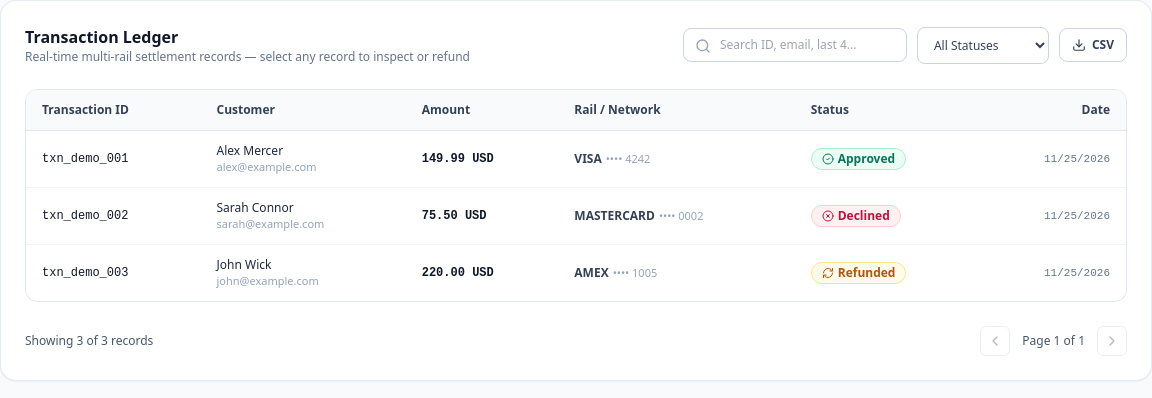
VisaPay Merchant Dashboard & Analytics › should filter transaction ledger by search term and status
Expected: the text "Alex Mercer" is shown, top-left (216, 142), bottom-right (283, 159)
Expected: the text "Sarah Connor" is shown, top-left (216, 199), bottom-right (294, 216)
Note: Search for "Sarah"
In the field named "Filter transactions": [795, 45] box top-left (683, 28), bottom-right (907, 62), type "Sarah"
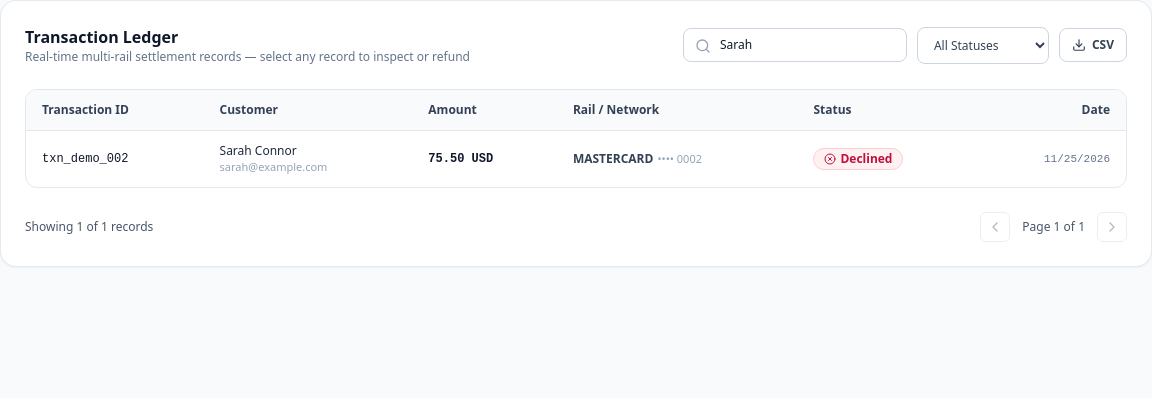
Expected: the text "Sarah Connor" is shown, top-left (220, 142), bottom-right (297, 159)
Now the text "Alex Mercer" is gone
Now the text "John Wick" is gone
Note: Clear search
Clear the field named "Filter transactions": [795, 45] box top-left (683, 28), bottom-right (907, 62)
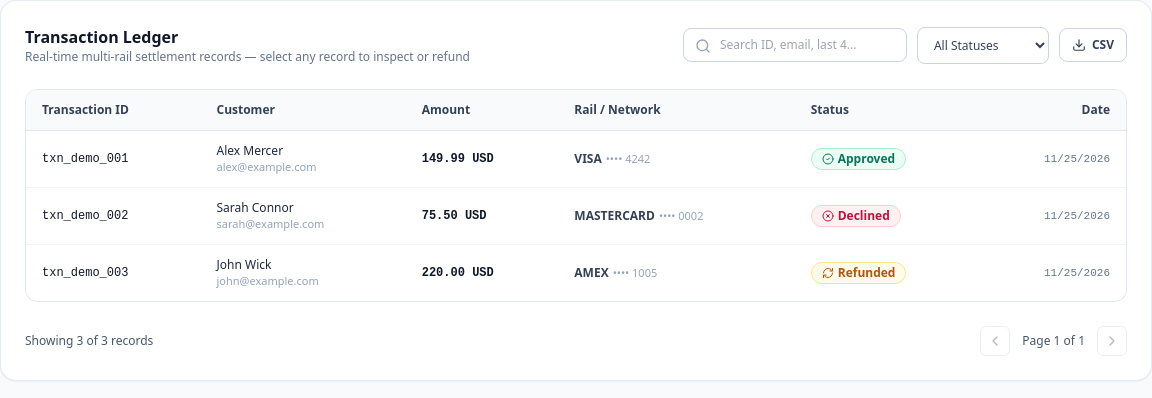
Note: Filter by status "Approved"
Select "Approved Only" in the dropdown named "Filter by transaction status": [983, 45] box top-left (917, 26), bottom-right (1049, 64)
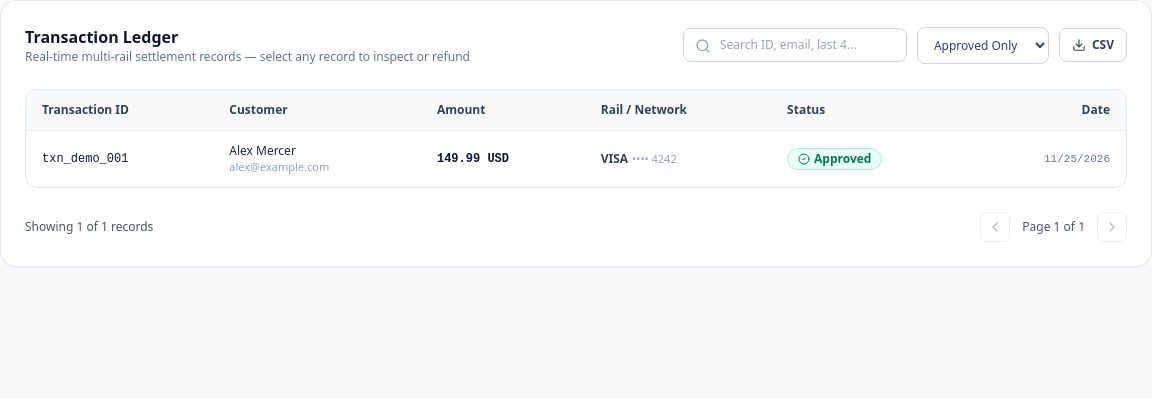
Now the text "Alex Mercer" is shown, box top-left (229, 142), bottom-right (296, 159)
Now the text "Sarah Connor" is gone
Now the text "John Wick" is gone
